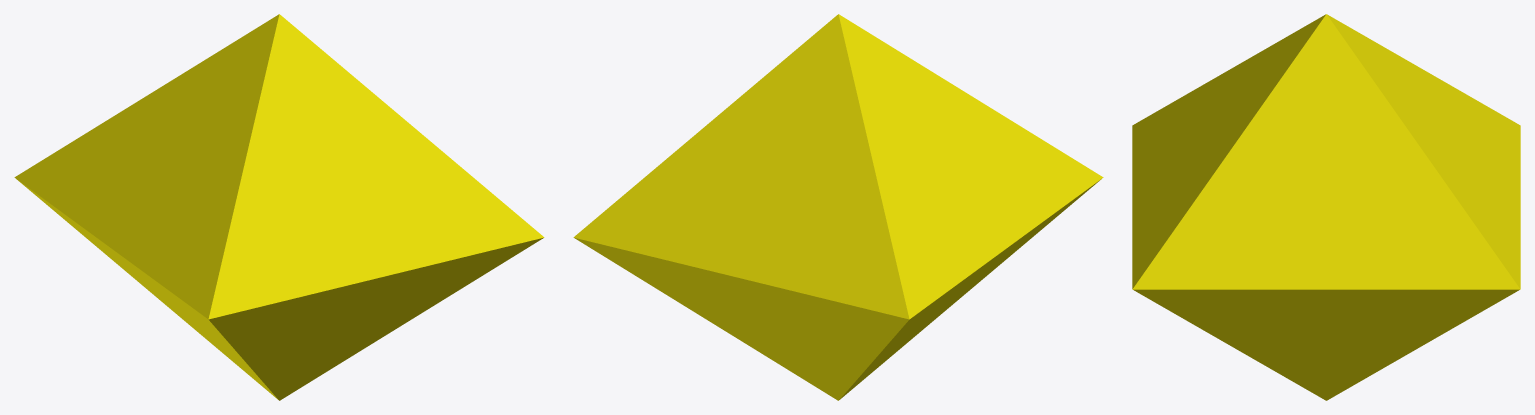
File: ramiel.fbx
The picture shows the model from 3 angles, left to right: view 1: azimuth 30°, elevation 25°; view 2: azimuth 150°, elevation 25°; view 3: azimuth 270°, elevation 25°; orthographic projection.
Visible parts, largest first — view 1: mergedBlocks; view 2: mergedBlocks; view 3: mergedBlocks.
Part boxes in pixels (<box>): mergedBlocks: <box>14,14,544,400</box>; mergedBlocks: <box>573,14,1103,400</box>; mergedBlocks: <box>1132,14,1520,400</box>.
Size of the model in its own units: 10 by 11 by 10.
